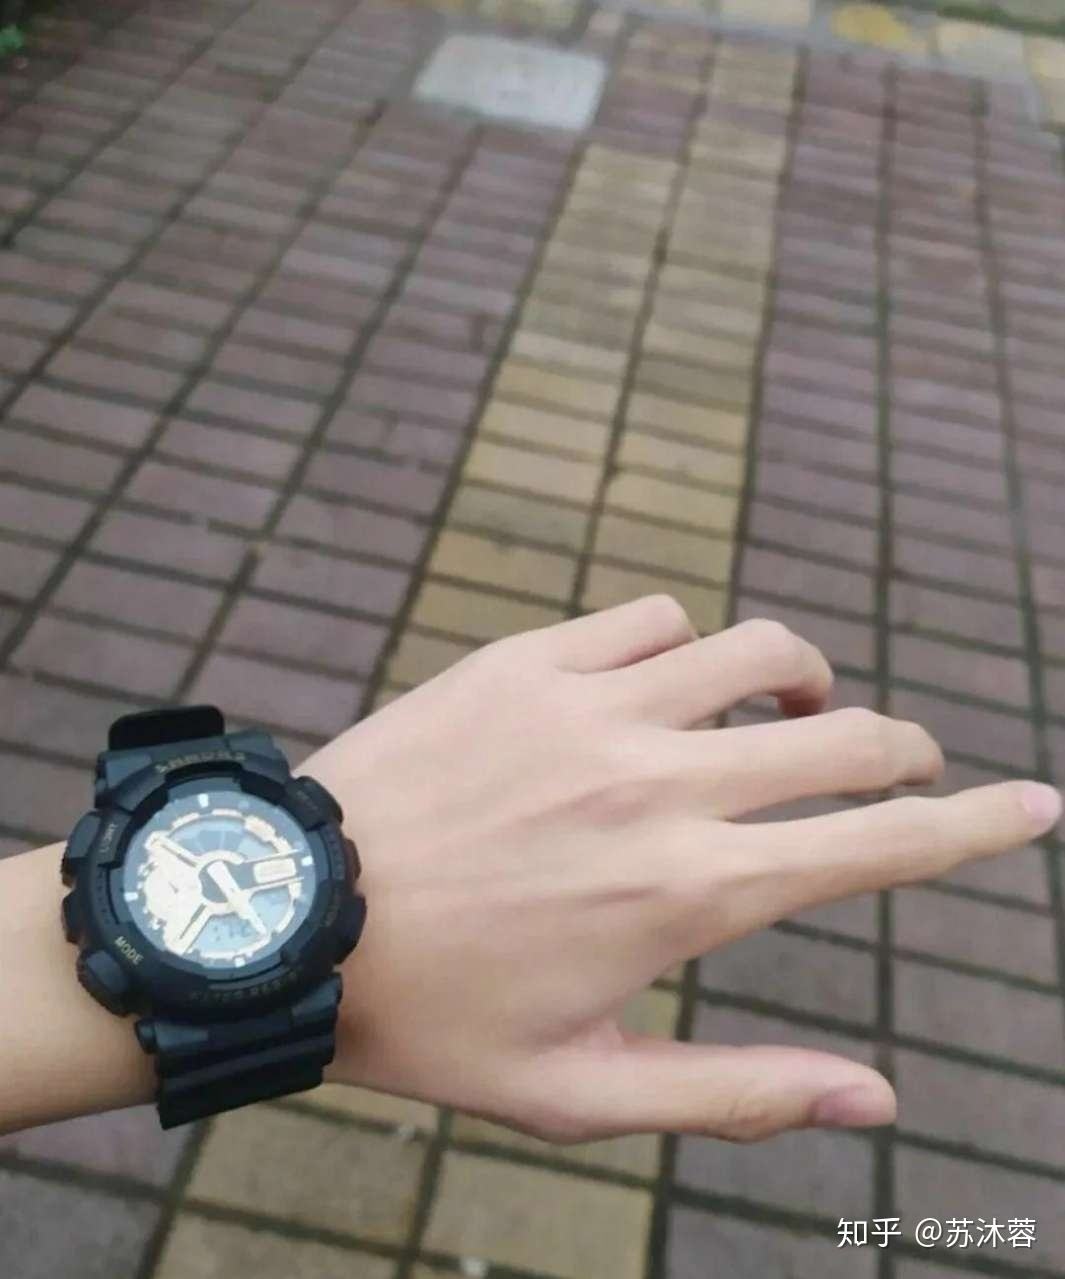no-phone: (287, 565, 1061, 1144)
